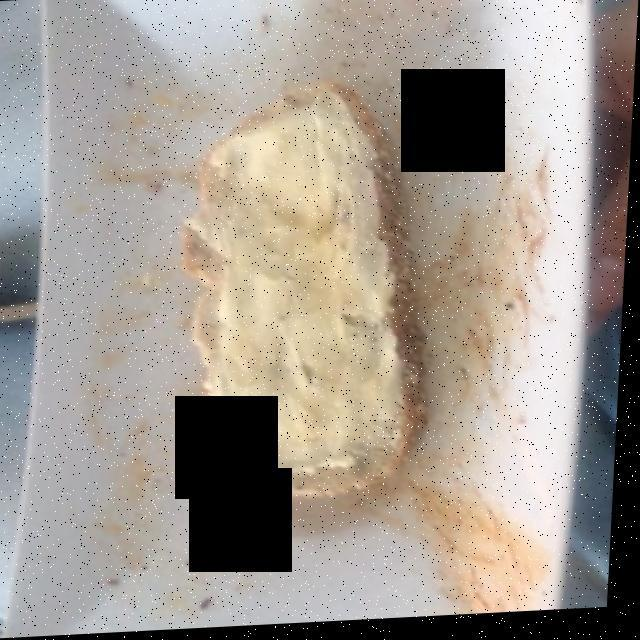bread: (191, 89, 424, 502)
butter: (199, 94, 390, 473)
